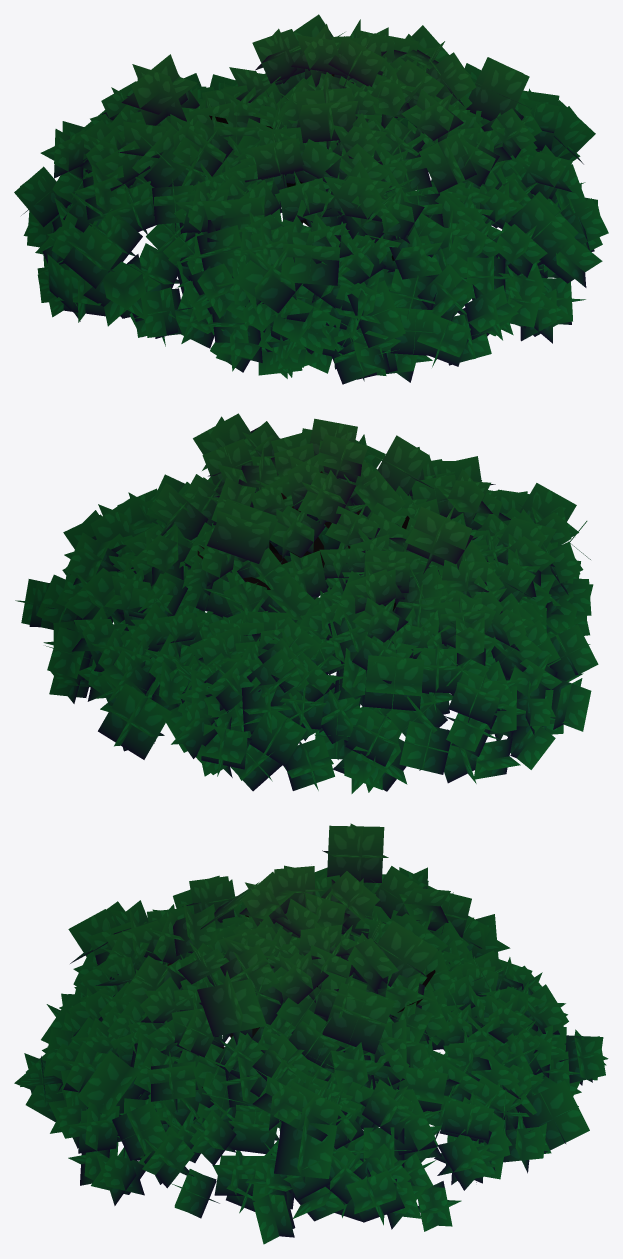
File: SM_Env_Bush_02.gltf
3 renders of one model, top to bottom at view 1: azimuth 30°, elevation 25°; view 2: azimuth 150°, elevation 25°; view 3: azimuth 270°, elevation 25°, orthographic.
Visible parts, largest first — view 1: SM_Env_Bush_02_Leaves_LOD0; view 2: SM_Env_Bush_02_Leaves_LOD0, SM_Env_Bush_02_Branches_LOD0; view 3: SM_Env_Bush_02_Leaves_LOD0.
Boxes of the visible parts, x1,y1,x2,y2 form: SM_Env_Bush_02_Leaves_LOD0: (14,14,608,384); SM_Env_Bush_02_Leaves_LOD0: (15,413,598,793); SM_Env_Bush_02_Branches_LOD0: (197,471,409,610); SM_Env_Bush_02_Leaves_LOD0: (14,823,608,1244).
Size of what is drawn, in the model's own units: 4.95 by 2.33 by 4.7.
2 materials, 2 textured.
